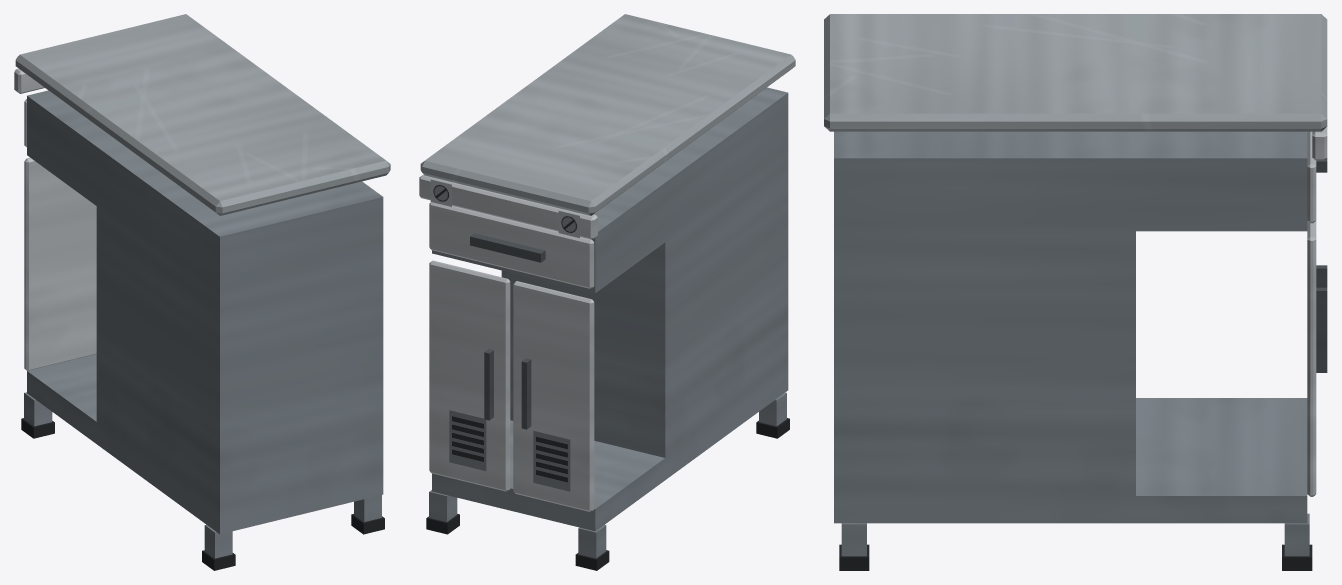
Rendered from counter_half.glb.
3 views of the same model, side by side, from view 1: azimuth 30°, elevation 25°; view 2: azimuth 150°, elevation 25°; view 3: azimuth 270°, elevation 25° (orthographic). The views are drawn at different scales.
Parts seen in each view (by area): view 1: counter_half_body; view 2: counter_half_body; view 3: counter_half_body.
Part boxes in pixels (box(x1,y1,x2,y2)): counter_half_body: box(14, 14, 390, 570); counter_half_body: box(419, 14, 795, 570); counter_half_body: box(824, 14, 1327, 570).
Bounding box in the file's own units: 0.492 × 1 × 1.
Materials: 6 (5 with a texture image).
